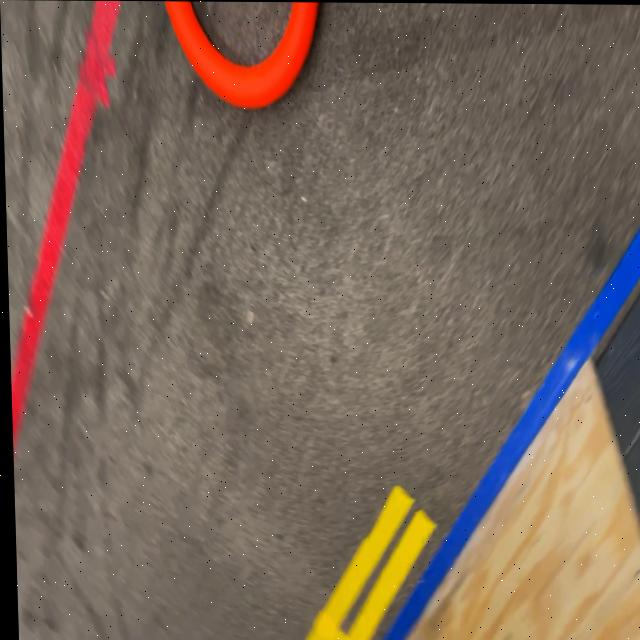note: (163, 1, 321, 109)
